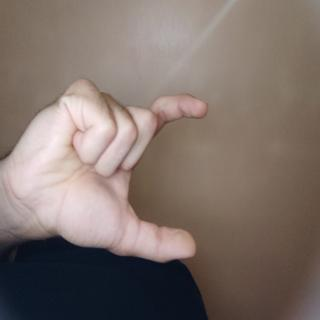NOON: (53, 139, 198, 320)
